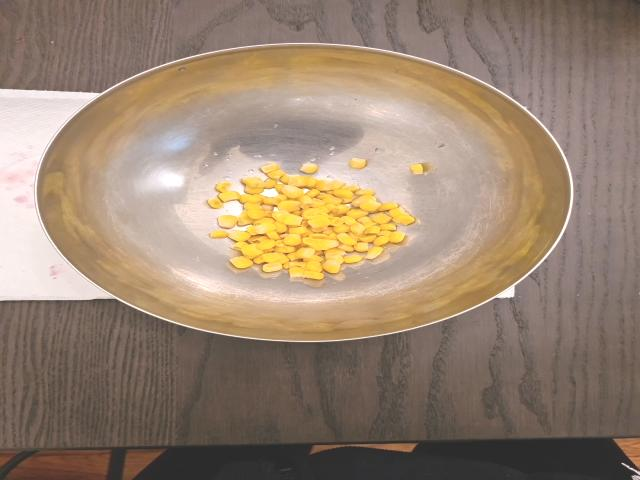kichen waste: (205, 158, 426, 280)
